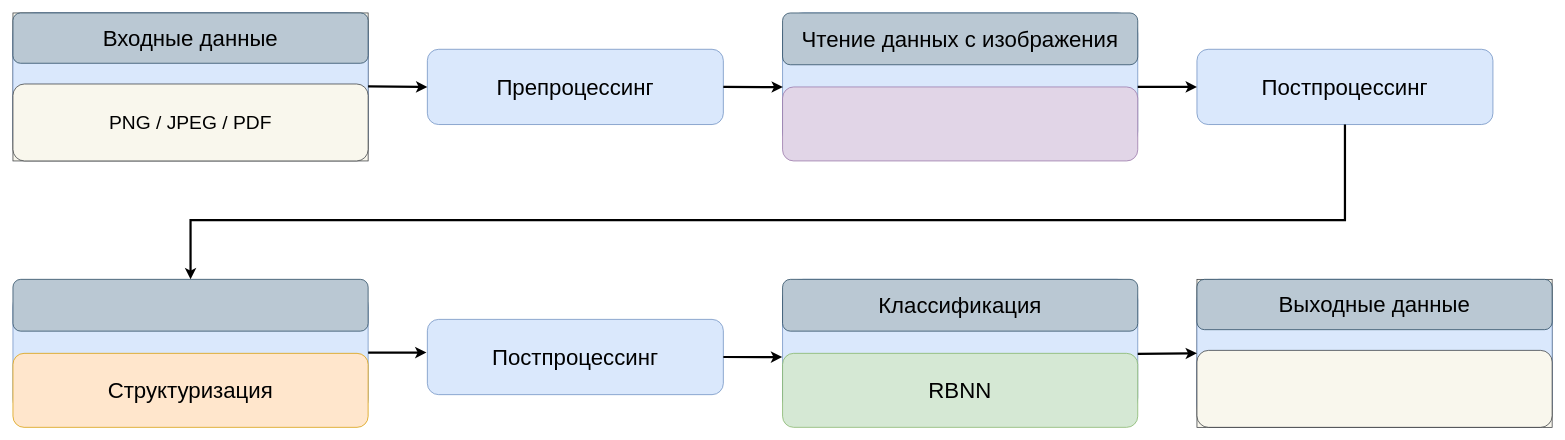
This 1565x440 diagram has some shape labels left out. The shapes that lost their labels are listed below. From the top down, each one's centre as x and y in pixels, then its label:
At [960,123]: "OCR".
At [190,305]: "Приведение данных к единому стилю".
At [1374,388]: "JSON".
